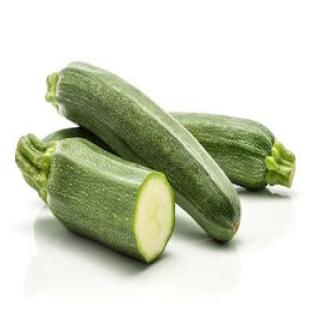Zucchini: (47, 63, 240, 241), (16, 135, 174, 262), (171, 113, 295, 189)
